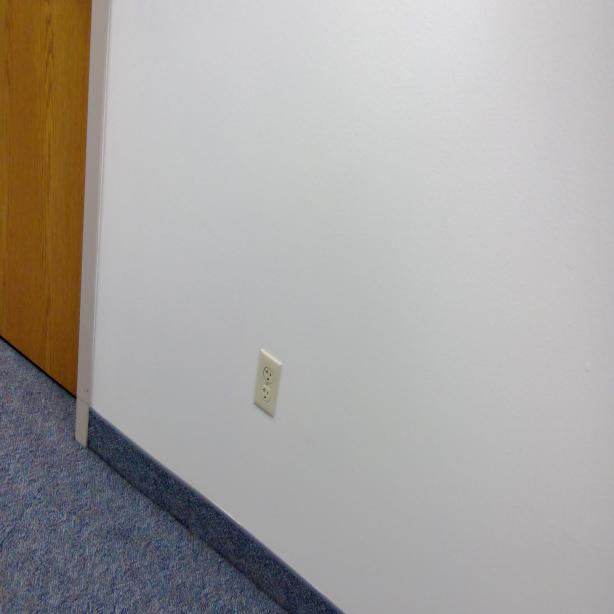typeb: (262, 367, 273, 383), (260, 386, 270, 400)
